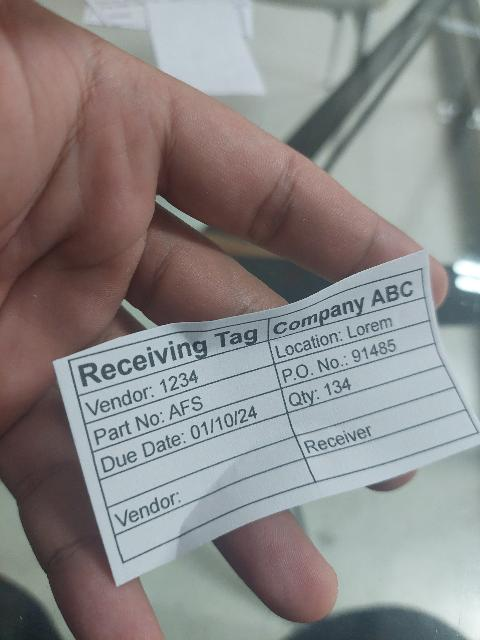PO no: (275, 320, 434, 389)
part no: (86, 367, 279, 453)
qty: (281, 344, 444, 413)
tags: (51, 250, 480, 588)
